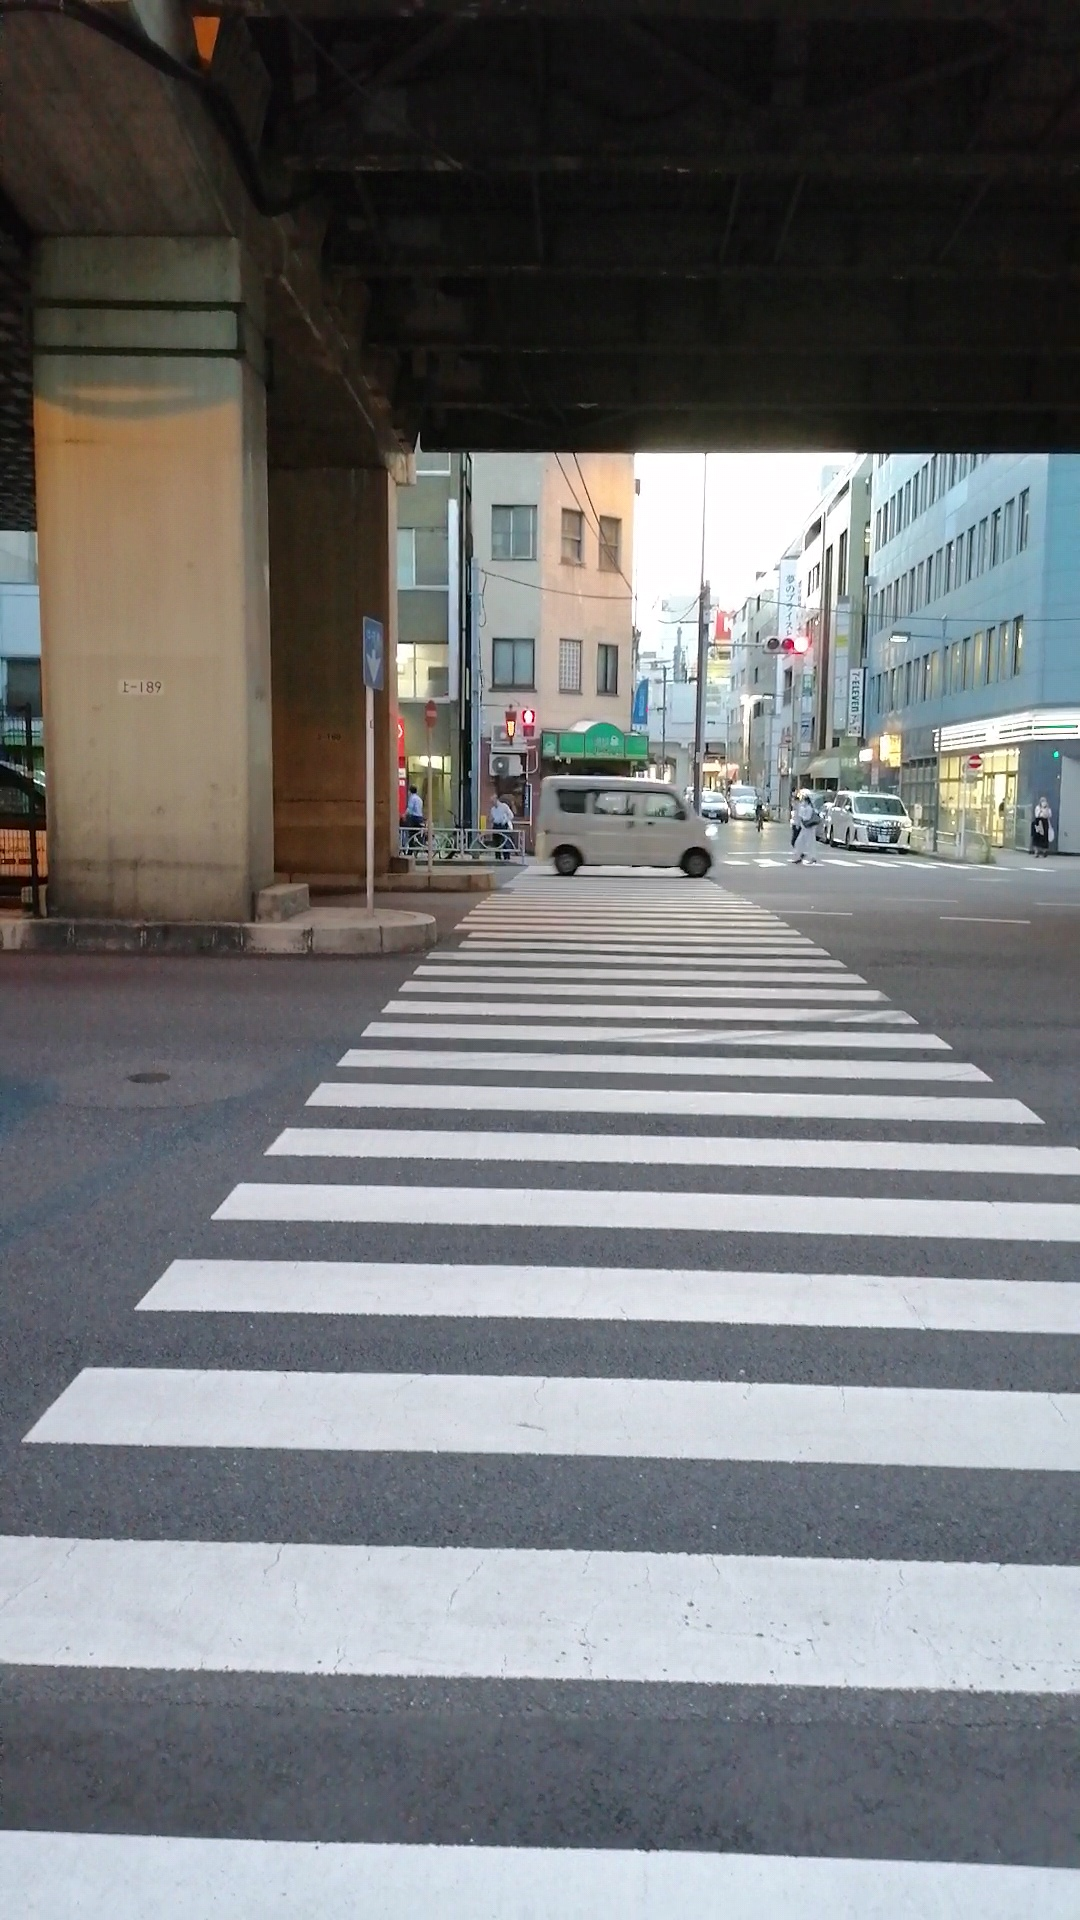red: (518, 708, 538, 741)
